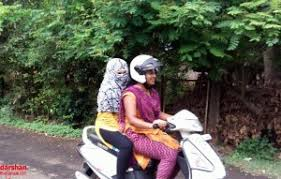helmet: (127, 53, 161, 87)
